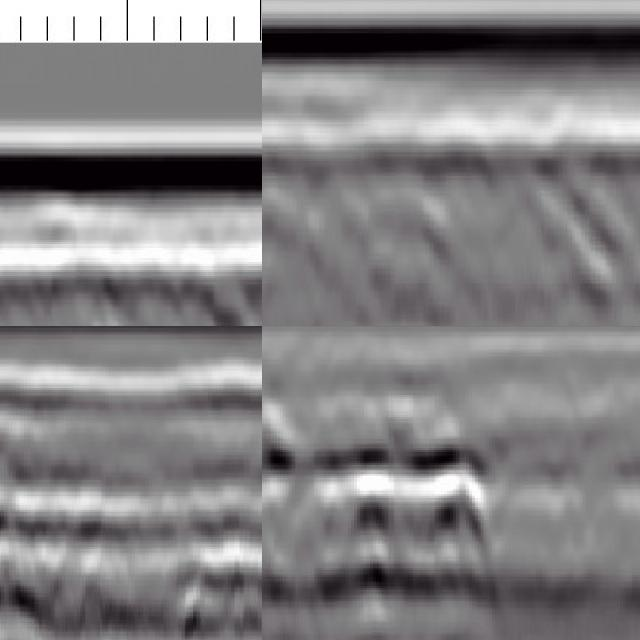loose: (263, 138, 640, 327), (263, 403, 497, 633), (1, 444, 108, 626)
